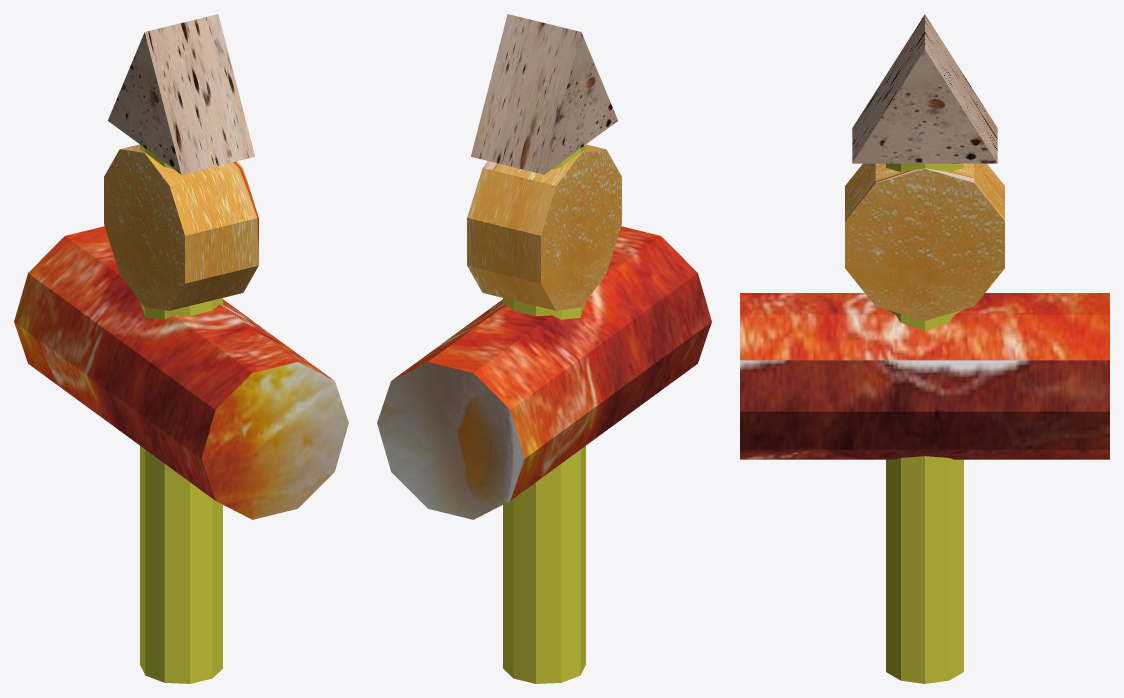
File: Oden.fbx
3 views of the same model, side by side, from view 1: azimuth 30°, elevation 25°; view 2: azimuth 150°, elevation 25°; view 3: azimuth 270°, elevation 25° (orthographic).
Parts seen in each view (by area): view 1: polySurface5; view 2: polySurface5; view 3: polySurface5.
Part boxes in pixels (bbox=[...]): polySurface5: bbox=[14, 14, 348, 683]; polySurface5: bbox=[377, 14, 711, 683]; polySurface5: bbox=[740, 14, 1109, 683].
Bounding box in the file's own units: 0.4 × 1.67 × 0.8801.
